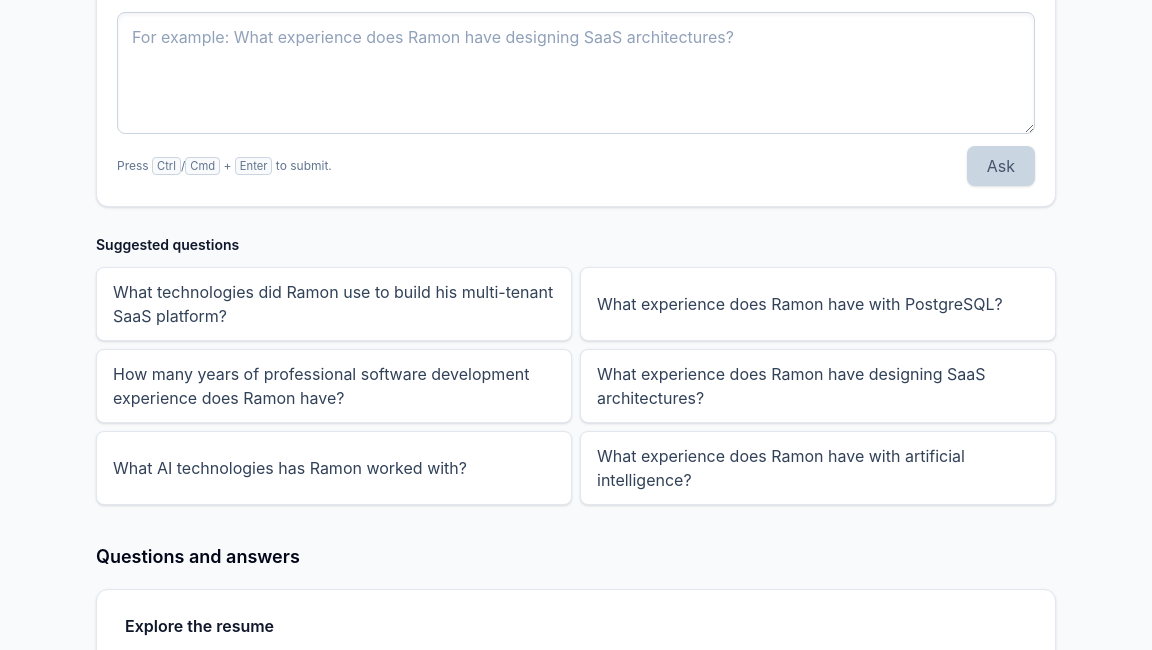
Scenario: AI Resume application › rejects a malformed response including invalid source fields
(page scrolled)
Click the button "What experience does Ramon have with PostgreSQL?" at [818, 304], box [580,267,1056,341]
(page scrolled)
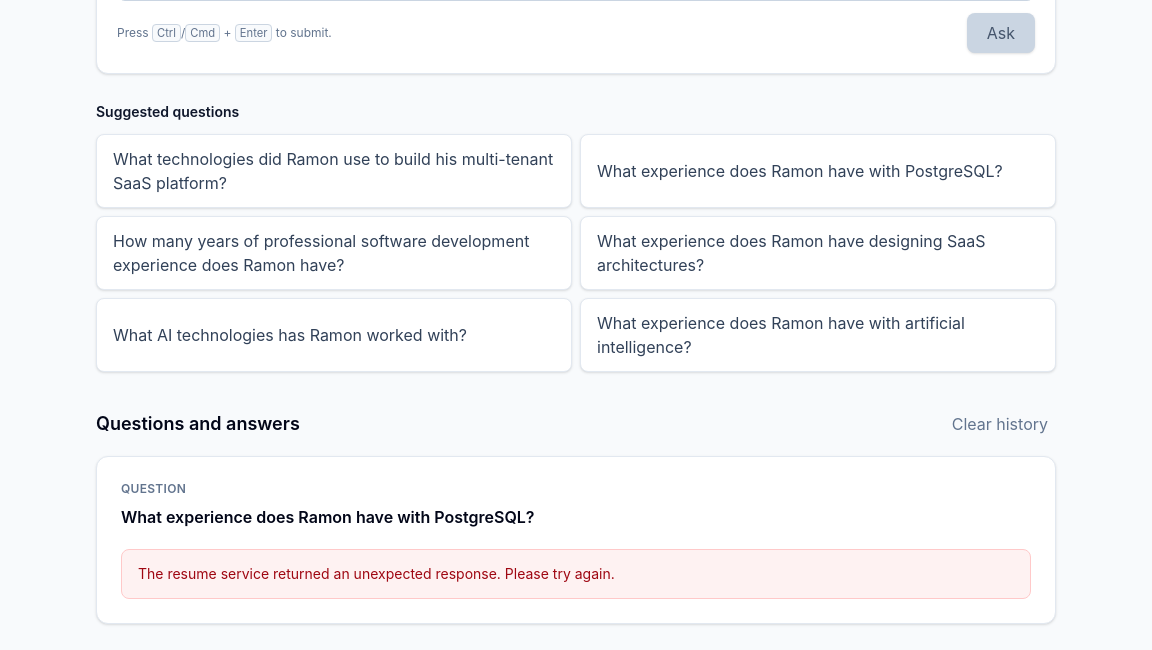
Now the message shows "unexpected response", box [138,565,615,582]
